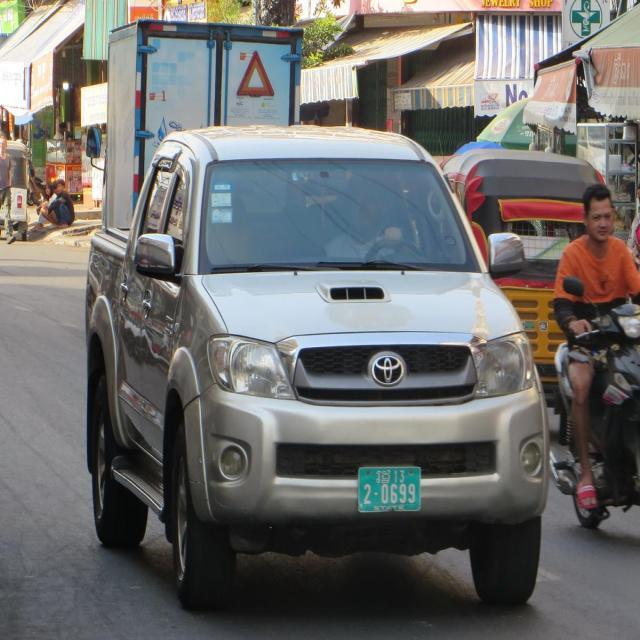State: (376, 469, 391, 484)
